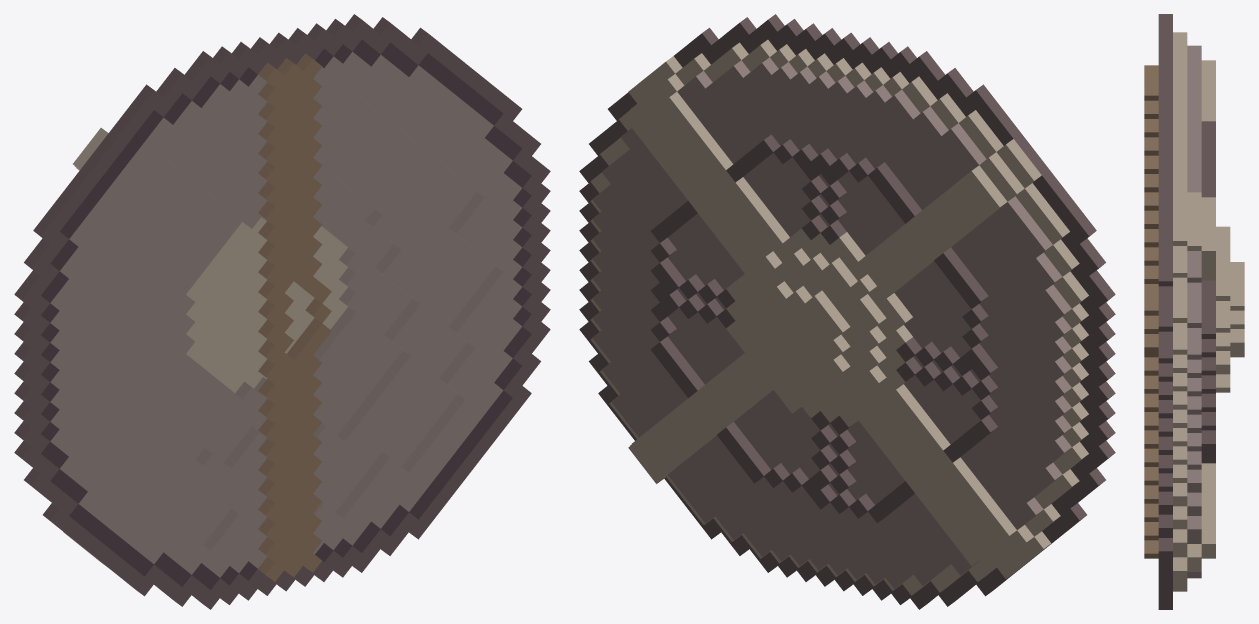
The model's file is VikShield.obj.
3 renders of one model, left to right at view 1: azimuth 30°, elevation 25°; view 2: azimuth 150°, elevation 25°; view 3: azimuth 270°, elevation 25°, orthographic. The views are drawn at different scales.
Visible parts, largest first — view 1: Untitled; view 2: Untitled; view 3: Untitled.
Part boxes in pixels (x1,y1,x2,y2): Untitled: (14,14,550,609); Untitled: (579,14,1115,609); Untitled: (1144,14,1244,609).
Size of the model in its own units: 3.96 by 3.96 by 0.7.
